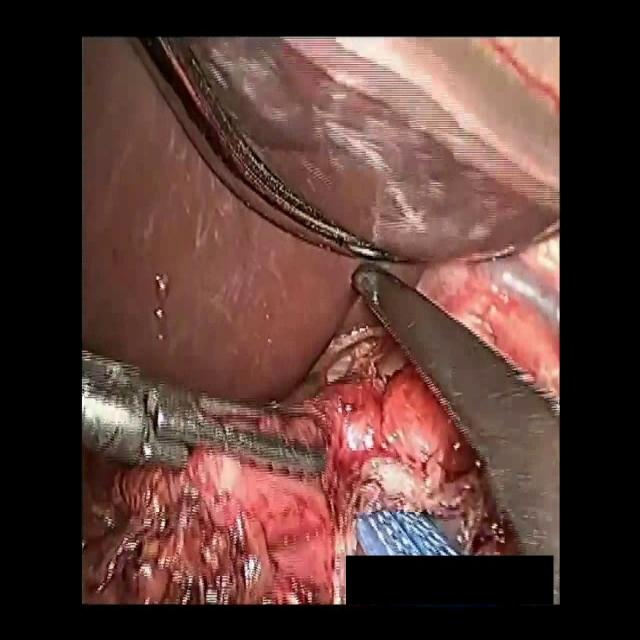surgical-area: (80, 36, 560, 609)
surgical-tool: (350, 260, 564, 610), (80, 354, 324, 476)
